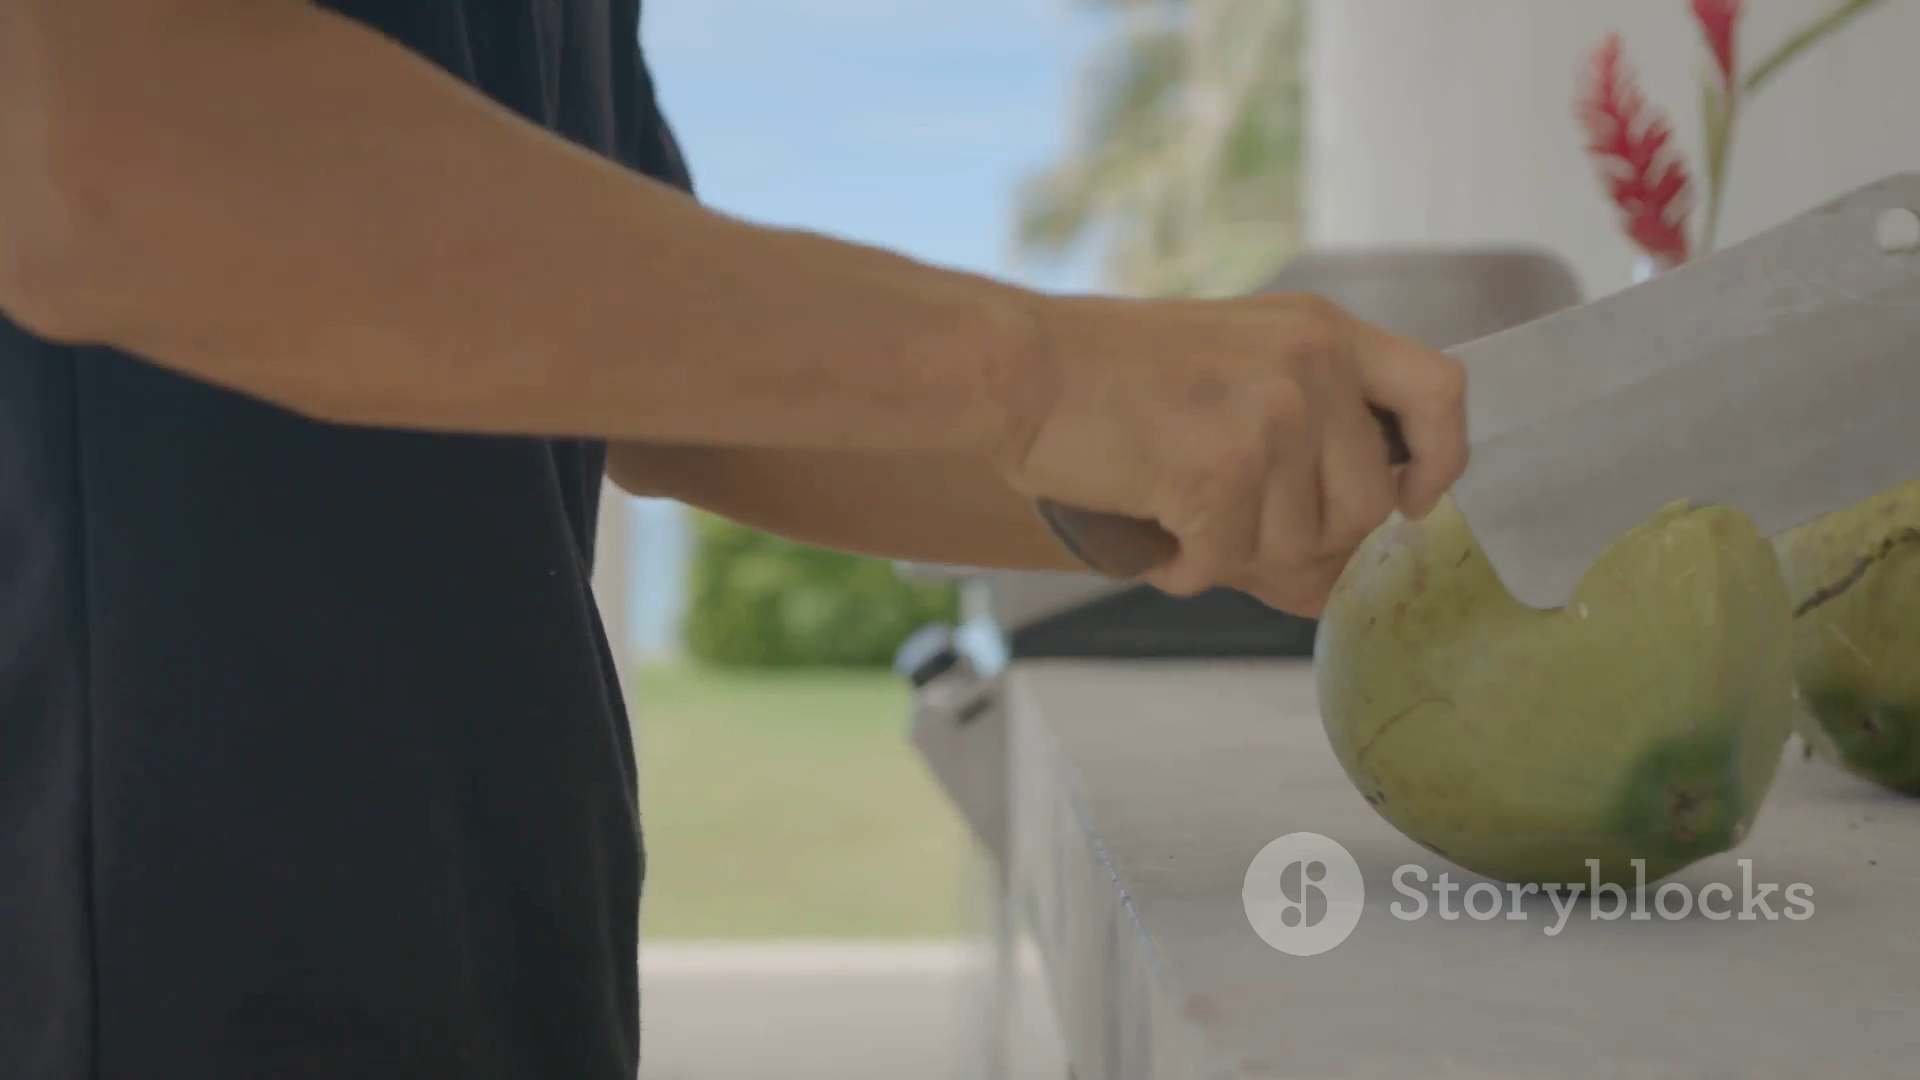cortante: (1418, 166, 1920, 609)
